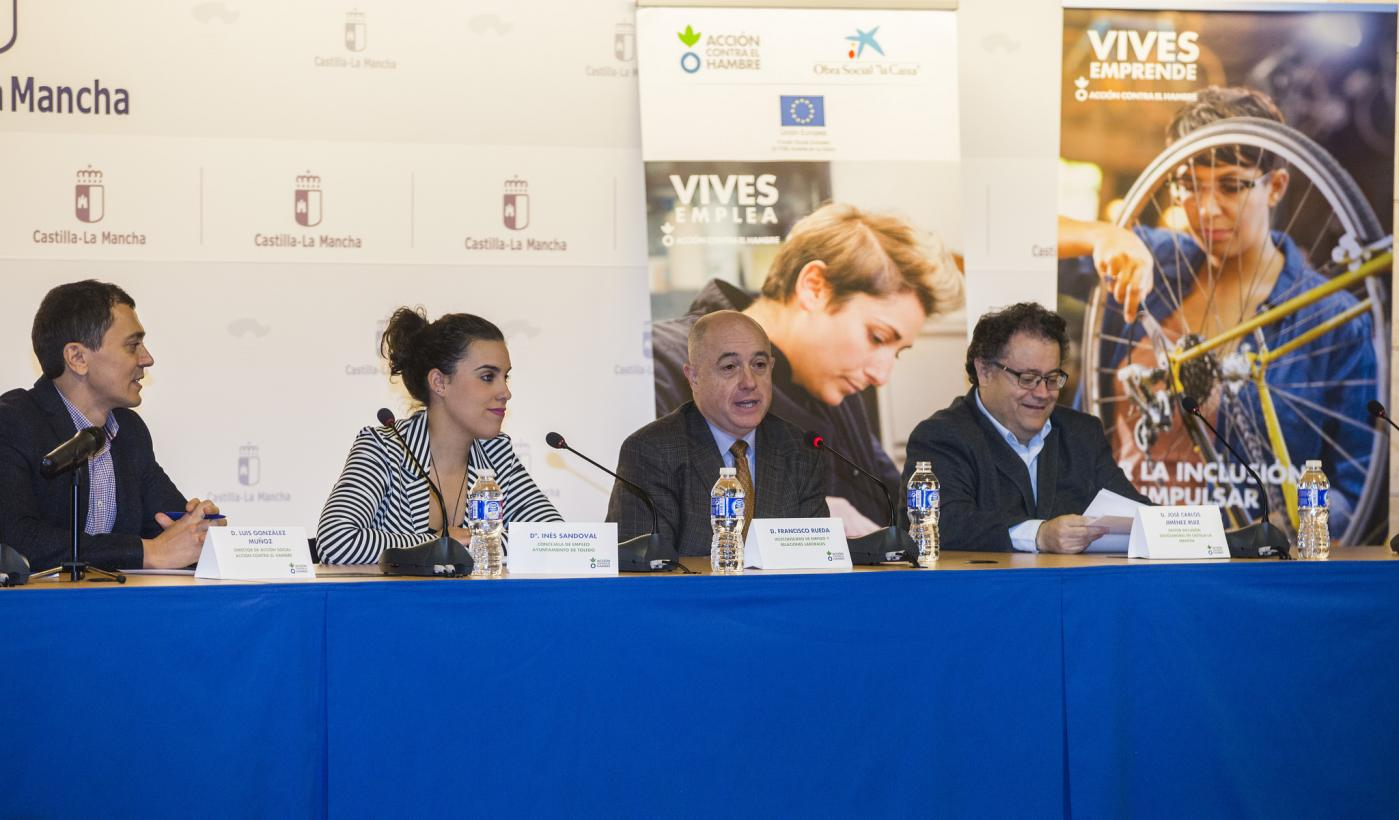person: (364, 295, 575, 513), (11, 246, 183, 508), (638, 265, 821, 500), (911, 302, 1091, 484)
